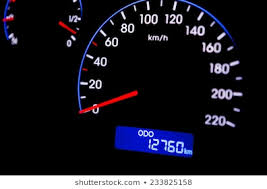Digital_Meter: (97, 131, 196, 152)
